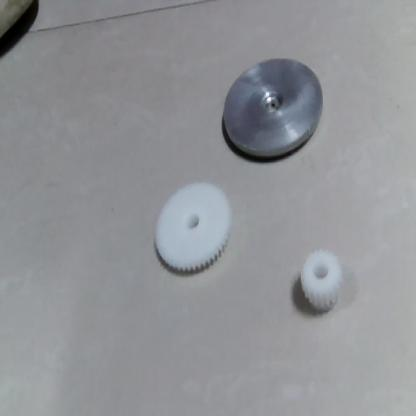FOD: (220, 57, 326, 161), (150, 180, 232, 276), (295, 249, 349, 314)
